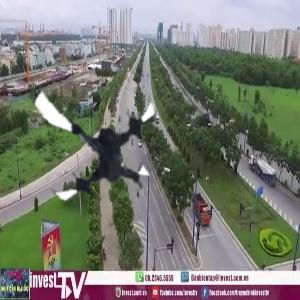drone: (21, 64, 170, 213)
